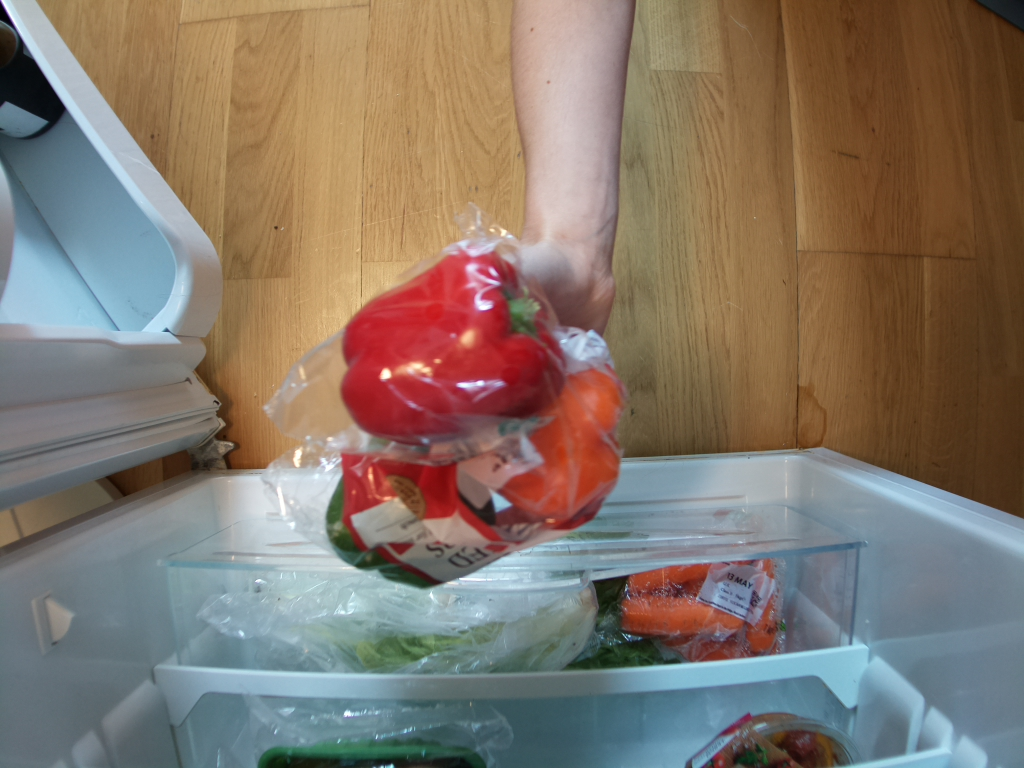pepper: (342, 245, 572, 445), (476, 352, 625, 528)
